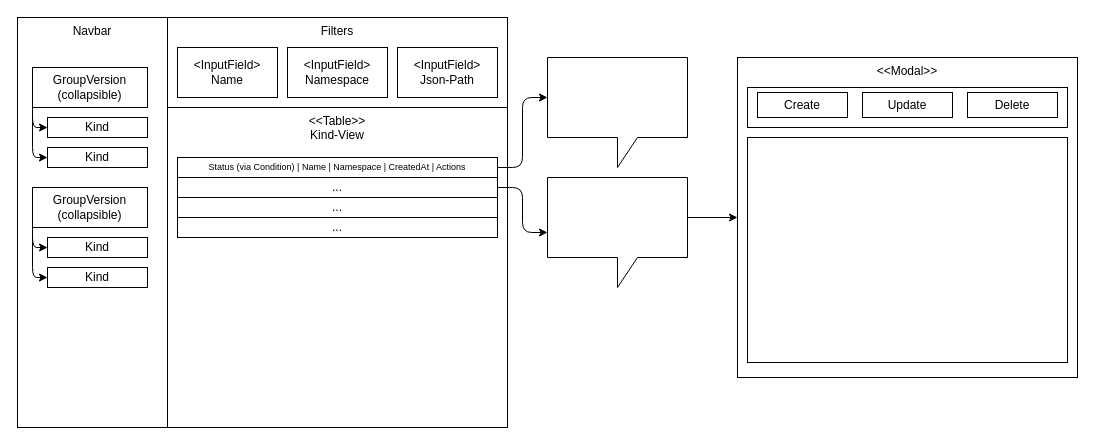
Image size: 1095x445. Some labels were removed from this diagram. Each missing label, with the centre of its shape:
Actions are Delete | Trigger: point 617,112
Monaco YAML Editor: point 907,249
onClick open Modal which then displays the Resource in YAML editor (monaco): point 617,232
